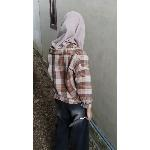Pisau: (69, 107, 94, 128)
